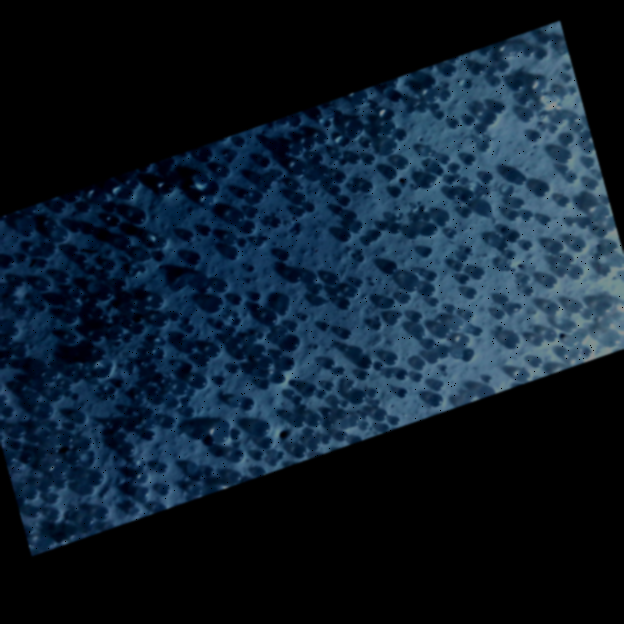GrassBeadSeg: (41, 114, 566, 550), (57, 49, 547, 482), (50, 103, 506, 518), (31, 90, 450, 516), (52, 61, 509, 429), (70, 134, 567, 464), (53, 90, 429, 519), (60, 109, 534, 445), (10, 95, 528, 393), (50, 134, 574, 428), (84, 174, 520, 526), (44, 60, 509, 381), (122, 80, 544, 431), (21, 196, 564, 463), (16, 196, 570, 432), (77, 103, 464, 424), (144, 118, 468, 493), (51, 124, 480, 401), (148, 131, 540, 433), (60, 200, 476, 482), (122, 183, 549, 455), (90, 242, 558, 484), (220, 102, 503, 446), (144, 154, 475, 439), (82, 254, 447, 501), (160, 207, 473, 494), (95, 125, 558, 317), (124, 112, 494, 342), (27, 184, 282, 498), (38, 181, 374, 418), (96, 202, 343, 519), (274, 123, 487, 465), (138, 268, 477, 482), (260, 111, 527, 368), (4, 302, 560, 417), (252, 151, 561, 357), (173, 119, 385, 410), (131, 243, 508, 406), (58, 337, 465, 487), (40, 369, 530, 492), (79, 273, 419, 449), (155, 228, 607, 358), (27, 148, 214, 455), (54, 312, 363, 493), (114, 216, 439, 388), (336, 217, 590, 436), (294, 266, 583, 457), (74, 155, 451, 300), (129, 195, 350, 442), (108, 302, 577, 418), (205, 148, 400, 425), (54, 168, 445, 304), (131, 187, 395, 388), (255, 141, 568, 306), (352, 89, 551, 342), (2, 250, 516, 346), (318, 153, 535, 380), (297, 216, 550, 404), (91, 230, 517, 341), (90, 112, 498, 227), (230, 136, 492, 314), (317, 64, 455, 398), (54, 265, 254, 493), (222, 166, 397, 425), (114, 207, 468, 334), (10, 297, 396, 413), (44, 310, 505, 406), (38, 280, 542, 367), (290, 115, 482, 335), (191, 222, 438, 390), (21, 278, 549, 356), (19, 277, 202, 496), (137, 211, 513, 316), (106, 261, 321, 443), (58, 157, 292, 322), (116, 324, 443, 441), (107, 210, 534, 295), (138, 273, 332, 459), (18, 305, 396, 400), (53, 173, 578, 240), (169, 235, 373, 407), (233, 215, 549, 326), (119, 279, 322, 450), (332, 190, 491, 405), (305, 138, 469, 345), (115, 281, 307, 456), (421, 125, 558, 368), (58, 273, 215, 476), (365, 228, 606, 358), (154, 211, 418, 325), (362, 268, 566, 413), (70, 181, 301, 308), (295, 161, 435, 364), (5, 211, 511, 267), (273, 230, 456, 384), (3, 257, 382, 330), (478, 106, 610, 315), (252, 210, 520, 312), (299, 207, 475, 361), (325, 267, 580, 368), (151, 302, 558, 365), (341, 175, 451, 407), (512, 115, 623, 343), (254, 261, 396, 435), (67, 283, 502, 338), (74, 331, 265, 455), (278, 287, 527, 382), (201, 289, 477, 374), (413, 239, 578, 381), (66, 320, 226, 466), (116, 190, 472, 255), (0, 267, 146, 424), (233, 274, 469, 370), (374, 162, 461, 421), (242, 185, 341, 407), (154, 252, 270, 437), (310, 230, 512, 334), (105, 116, 283, 234), (236, 171, 347, 359), (150, 207, 353, 308), (110, 217, 438, 279), (379, 90, 451, 370), (50, 202, 116, 504), (186, 324, 436, 403), (358, 66, 457, 261), (155, 134, 320, 249), (293, 119, 459, 232), (280, 172, 493, 260), (353, 154, 450, 338), (242, 238, 509, 304), (65, 287, 534, 324), (289, 189, 473, 283), (1, 394, 204, 479), (403, 154, 474, 390), (281, 90, 359, 304), (326, 295, 508, 386), (134, 287, 475, 334), (0, 298, 149, 405), (313, 348, 473, 444), (21, 224, 91, 439), (284, 129, 407, 251), (250, 191, 351, 339), (183, 329, 346, 418), (65, 333, 141, 515), (11, 349, 165, 438), (358, 89, 439, 257), (232, 283, 430, 350), (9, 336, 419, 368), (277, 150, 437, 232), (10, 253, 187, 323), (232, 187, 334, 304), (102, 236, 365, 281), (34, 350, 105, 516), (109, 222, 360, 267), (294, 338, 431, 420), (182, 280, 243, 461), (135, 237, 266, 321), (67, 332, 399, 365), (0, 224, 76, 368), (204, 286, 358, 357), (54, 356, 372, 390), (283, 282, 436, 351), (310, 202, 412, 304), (69, 136, 246, 193), (44, 254, 87, 482), (81, 310, 180, 405), (304, 153, 376, 283), (80, 413, 285, 457), (1, 293, 130, 361), (167, 225, 212, 419), (293, 181, 334, 390), (483, 173, 558, 287), (248, 193, 339, 284), (63, 380, 203, 438), (447, 79, 524, 184), (45, 242, 72, 540), (216, 193, 297, 291), (171, 311, 326, 362), (147, 363, 377, 397), (118, 336, 254, 393), (239, 184, 359, 247), (175, 334, 300, 394), (231, 166, 328, 243), (410, 273, 531, 334), (335, 149, 572, 180), (486, 318, 614, 375), (427, 271, 520, 349), (267, 219, 363, 294), (383, 239, 587, 274), (158, 398, 254, 472), (54, 378, 124, 478), (101, 183, 174, 278), (277, 138, 315, 316), (41, 258, 133, 329), (344, 298, 408, 397), (166, 376, 225, 483), (15, 277, 78, 375), (433, 163, 458, 406), (199, 232, 299, 292), (352, 370, 531, 403), (360, 293, 403, 430), (550, 252, 612, 347), (421, 63, 485, 155), (89, 264, 146, 365), (502, 242, 582, 312), (234, 209, 435, 236), (444, 95, 530, 155), (228, 293, 319, 348), (265, 193, 306, 314), (384, 215, 468, 274), (18, 201, 60, 315), (219, 166, 436, 188), (251, 313, 400, 344), (16, 272, 70, 356), (504, 165, 569, 233), (111, 201, 279, 227), (109, 327, 247, 358), (234, 292, 381, 321), (231, 364, 273, 465), (412, 206, 473, 275), (126, 407, 334, 427), (388, 75, 502, 111), (51, 180, 140, 226), (98, 329, 210, 365), (96, 348, 232, 377), (187, 211, 358, 234), (390, 310, 473, 357), (242, 221, 278, 325), (312, 154, 363, 227), (281, 107, 485, 125), (231, 242, 563, 253), (283, 123, 396, 155), (103, 348, 172, 400), (291, 379, 381, 417), (485, 45, 573, 83), (83, 341, 122, 426), (164, 437, 274, 467), (423, 189, 523, 221), (421, 246, 443, 390), (181, 178, 229, 243), (277, 127, 382, 156), (275, 218, 418, 239), (325, 322, 435, 348), (584, 241, 620, 320), (238, 165, 321, 198), (450, 317, 492, 382), (231, 278, 252, 406), (409, 82, 449, 149), (324, 91, 395, 128), (31, 206, 110, 239), (130, 395, 242, 418), (21, 383, 55, 458), (426, 64, 477, 113), (417, 274, 470, 321), (487, 34, 546, 75), (564, 253, 595, 331), (288, 389, 355, 425), (19, 431, 51, 504), (138, 316, 191, 360), (21, 223, 82, 261), (182, 231, 195, 406), (383, 109, 433, 153), (540, 74, 578, 130), (14, 461, 68, 500), (391, 183, 548, 196), (29, 393, 55, 471), (477, 231, 520, 278), (137, 363, 185, 404), (325, 178, 341, 296), (318, 132, 341, 214), (567, 217, 603, 269), (28, 193, 108, 216), (192, 253, 223, 312), (183, 252, 202, 348), (274, 343, 348, 367), (226, 206, 259, 259), (414, 174, 461, 210), (371, 212, 433, 239), (481, 33, 553, 56), (501, 226, 520, 312), (133, 179, 220, 196), (375, 101, 445, 120), (45, 279, 111, 299), (374, 351, 440, 370), (58, 295, 141, 310), (573, 113, 595, 169), (46, 203, 92, 229), (308, 107, 393, 121), (305, 383, 340, 416), (277, 326, 314, 357), (288, 390, 314, 434), (446, 304, 512, 321), (587, 318, 623, 348), (193, 434, 215, 482), (290, 367, 345, 386), (84, 223, 95, 309), (432, 105, 475, 126), (585, 331, 620, 356), (39, 245, 79, 266), (183, 337, 232, 353), (82, 205, 95, 265), (303, 382, 317, 436), (380, 214, 422, 231), (228, 210, 257, 233), (161, 377, 196, 396), (542, 114, 580, 131), (595, 179, 610, 221), (343, 127, 374, 147), (371, 102, 430, 112), (103, 304, 135, 322), (365, 155, 409, 168), (89, 297, 111, 323), (92, 293, 134, 306), (551, 329, 569, 358), (16, 383, 42, 403), (324, 419, 347, 440), (585, 142, 595, 189), (261, 182, 271, 225), (600, 242, 612, 277), (330, 151, 343, 183), (66, 392, 117, 400), (393, 91, 420, 106), (522, 210, 532, 250), (289, 321, 328, 331), (205, 426, 230, 441), (68, 190, 102, 201), (338, 409, 361, 425), (573, 122, 592, 141), (294, 397, 306, 427), (135, 385, 159, 400), (126, 416, 149, 431), (242, 173, 264, 187), (147, 395, 164, 412), (143, 408, 157, 428), (186, 362, 194, 395), (335, 136, 350, 152), (163, 416, 176, 429), (52, 444, 60, 464), (523, 45, 534, 56), (306, 202, 316, 212), (564, 255, 575, 264)
